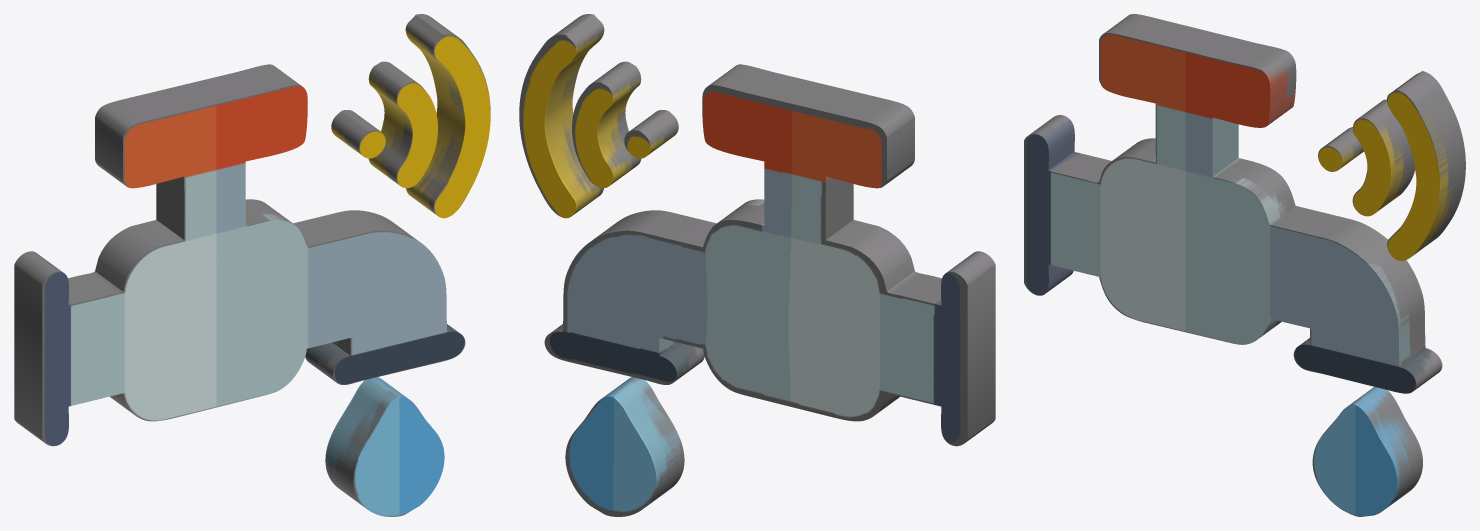
Rendered from neqqqw.fbx.
The picture shows the model from 3 angles, left to right: view 1: azimuth 30°, elevation 25°; view 2: azimuth 150°, elevation 25°; view 3: azimuth 330°, elevation 25°; orthographic projection. The views are drawn at different scales.
Visible parts, largest first — view 1: node_id9 (×2); view 2: node_id9 (×2); view 3: node_id9 (×2).
Boxes of the visible parts, left/top/right/bottom form: node_id9 (×2): left=14, top=14, right=490, bottom=516; node_id9 (×2): left=519, top=14, right=995, bottom=516; node_id9 (×2): left=1024, top=14, right=1465, bottom=516.
Bounding box in the file's own units: 0.5108 × 0.512 × 0.0553.
3 materials, 3 textured.
